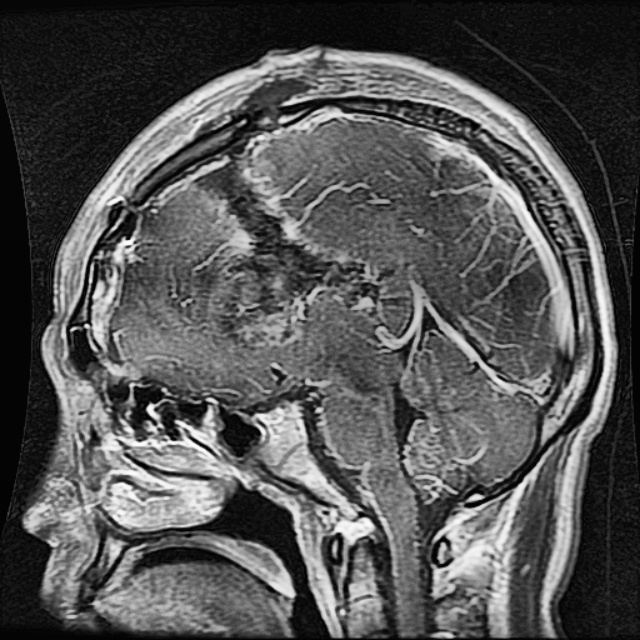Meningioma: (192, 159, 393, 345)
